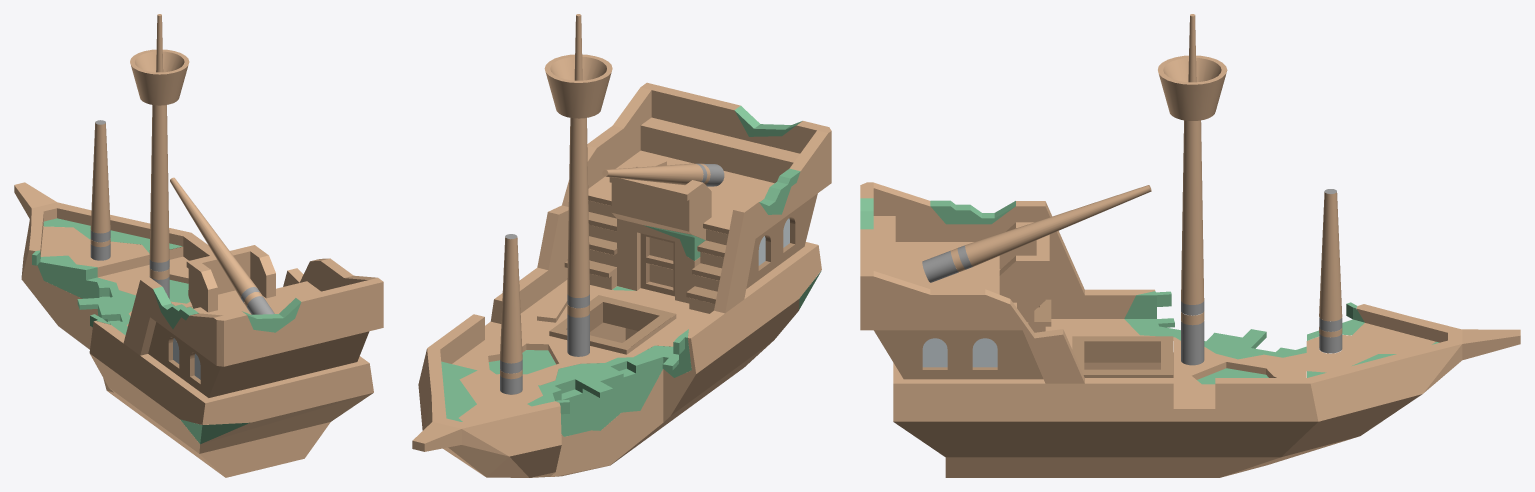
Rendered from shipwreck.glb.
3 views of the same model, side by side, from view 1: azimuth 30°, elevation 25°; view 2: azimuth 150°, elevation 25°; view 3: azimuth 270°, elevation 25° (orthographic). The views are drawn at different scales.
Visible parts, largest first — view 1: ship_wreck_8angles; view 2: ship_wreck_8angles; view 3: ship_wreck_8angles.
Boxes of the visible parts, x1,y1,x2,y2 form: ship_wreck_8angles: (14, 14, 383, 477); ship_wreck_8angles: (412, 14, 831, 477); ship_wreck_8angles: (860, 14, 1520, 477).
Bounding box in the file's own units: 8.85 × 18.39 × 25.
